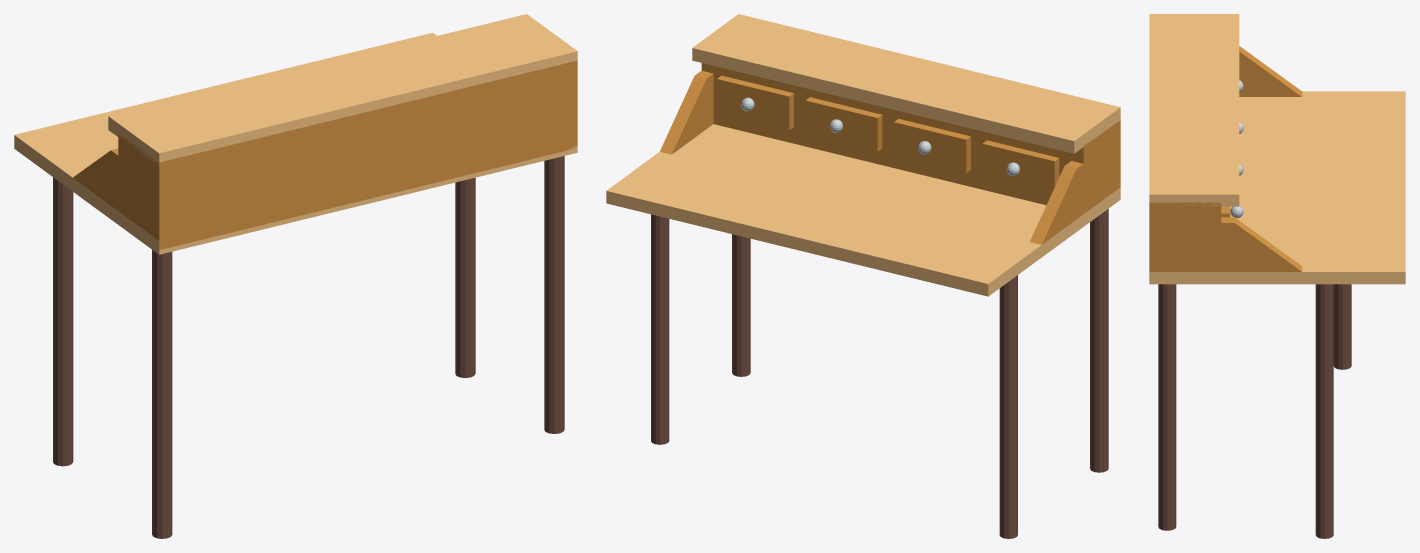
The picture shows the model from 3 angles, left to right: view 1: azimuth 30°, elevation 25°; view 2: azimuth 150°, elevation 25°; view 3: azimuth 270°, elevation 25°; orthographic projection. The views are drawn at different scales.
Visible parts, largest first — view 1: mesh_35158368, mesh_575027772, mesh_1382280921, mesh_2087404234, mesh_808185234, mesh_457039329, mesh_1278504558, mesh_1543331687; view 2: mesh_1382280921, mesh_575027772, mesh_35158368, mesh_2087404234, mesh_808185234, mesh_1278504558, mesh_1166798281, mesh_384031961, mesh_1151662325, mesh_2089229334, mesh_457039329, mesh_1543331687 (+1 smaller); view 3: mesh_1382280921, mesh_575027772, mesh_35158368, mesh_1278504558, mesh_457039329, mesh_457534609, mesh_1543331687, mesh_808185234.
Boxes of the visible parts, box(x1,y1,x2,y2) form: mesh_35158368: box(118, 60, 577, 249); mesh_575027772: box(108, 14, 577, 166); mesh_1382280921: box(14, 32, 577, 254); mesh_2087404234: box(152, 250, 172, 538); mesh_808185234: box(53, 177, 73, 466); mesh_457039329: box(544, 156, 564, 433); mesh_1278504558: box(455, 177, 475, 377); mesh_1543331687: box(73, 148, 118, 210); mesh_1382280921: box(606, 124, 1120, 296); mesh_575027772: box(692, 14, 1120, 153); mesh_35158368: box(701, 63, 1120, 213); mesh_2087404234: box(1090, 209, 1108, 472); mesh_808185234: box(999, 275, 1017, 538); mesh_1278504558: box(651, 214, 669, 444); mesh_1166798281: box(805, 97, 882, 151); mesh_384031961: box(717, 75, 793, 130); mesh_1151662325: box(894, 118, 970, 173); mesh_2089229334: box(982, 140, 1059, 194); mesh_457039329: box(732, 234, 750, 376); mesh_1543331687: box(1030, 161, 1083, 244); mesh_1382280921: box(1149, 91, 1405, 284); mesh_575027772: box(1149, 14, 1239, 206); mesh_35158368: box(1149, 202, 1221, 271); mesh_1278504558: box(1315, 284, 1333, 538); mesh_457039329: box(1158, 284, 1176, 530); mesh_457534609: box(1221, 217, 1302, 271); mesh_1543331687: box(1239, 46, 1302, 96); mesh_808185234: box(1333, 284, 1351, 369).
Size of the model in its own units: 95 by 85 by 57.
